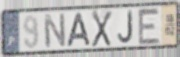9: (22, 14, 41, 50)
A: (65, 12, 92, 48)
E: (137, 7, 162, 46)
J: (117, 10, 134, 45)
N: (42, 12, 67, 49)
X: (91, 9, 113, 48)
